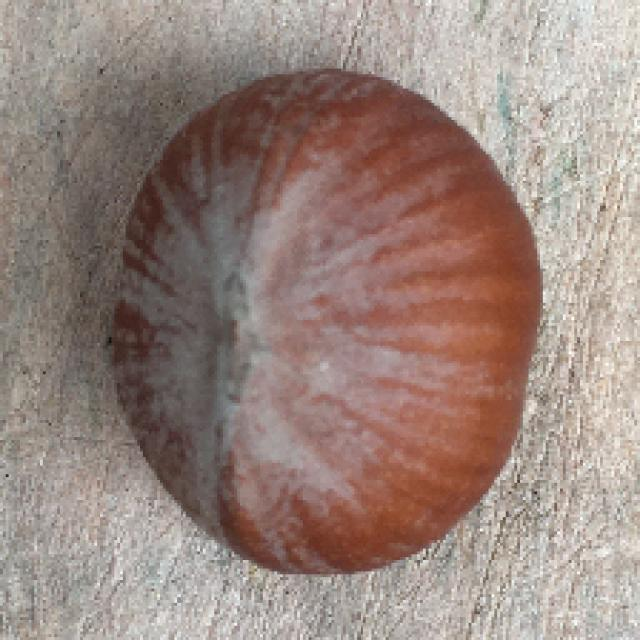qualityHazelnut: (99, 55, 551, 586)
